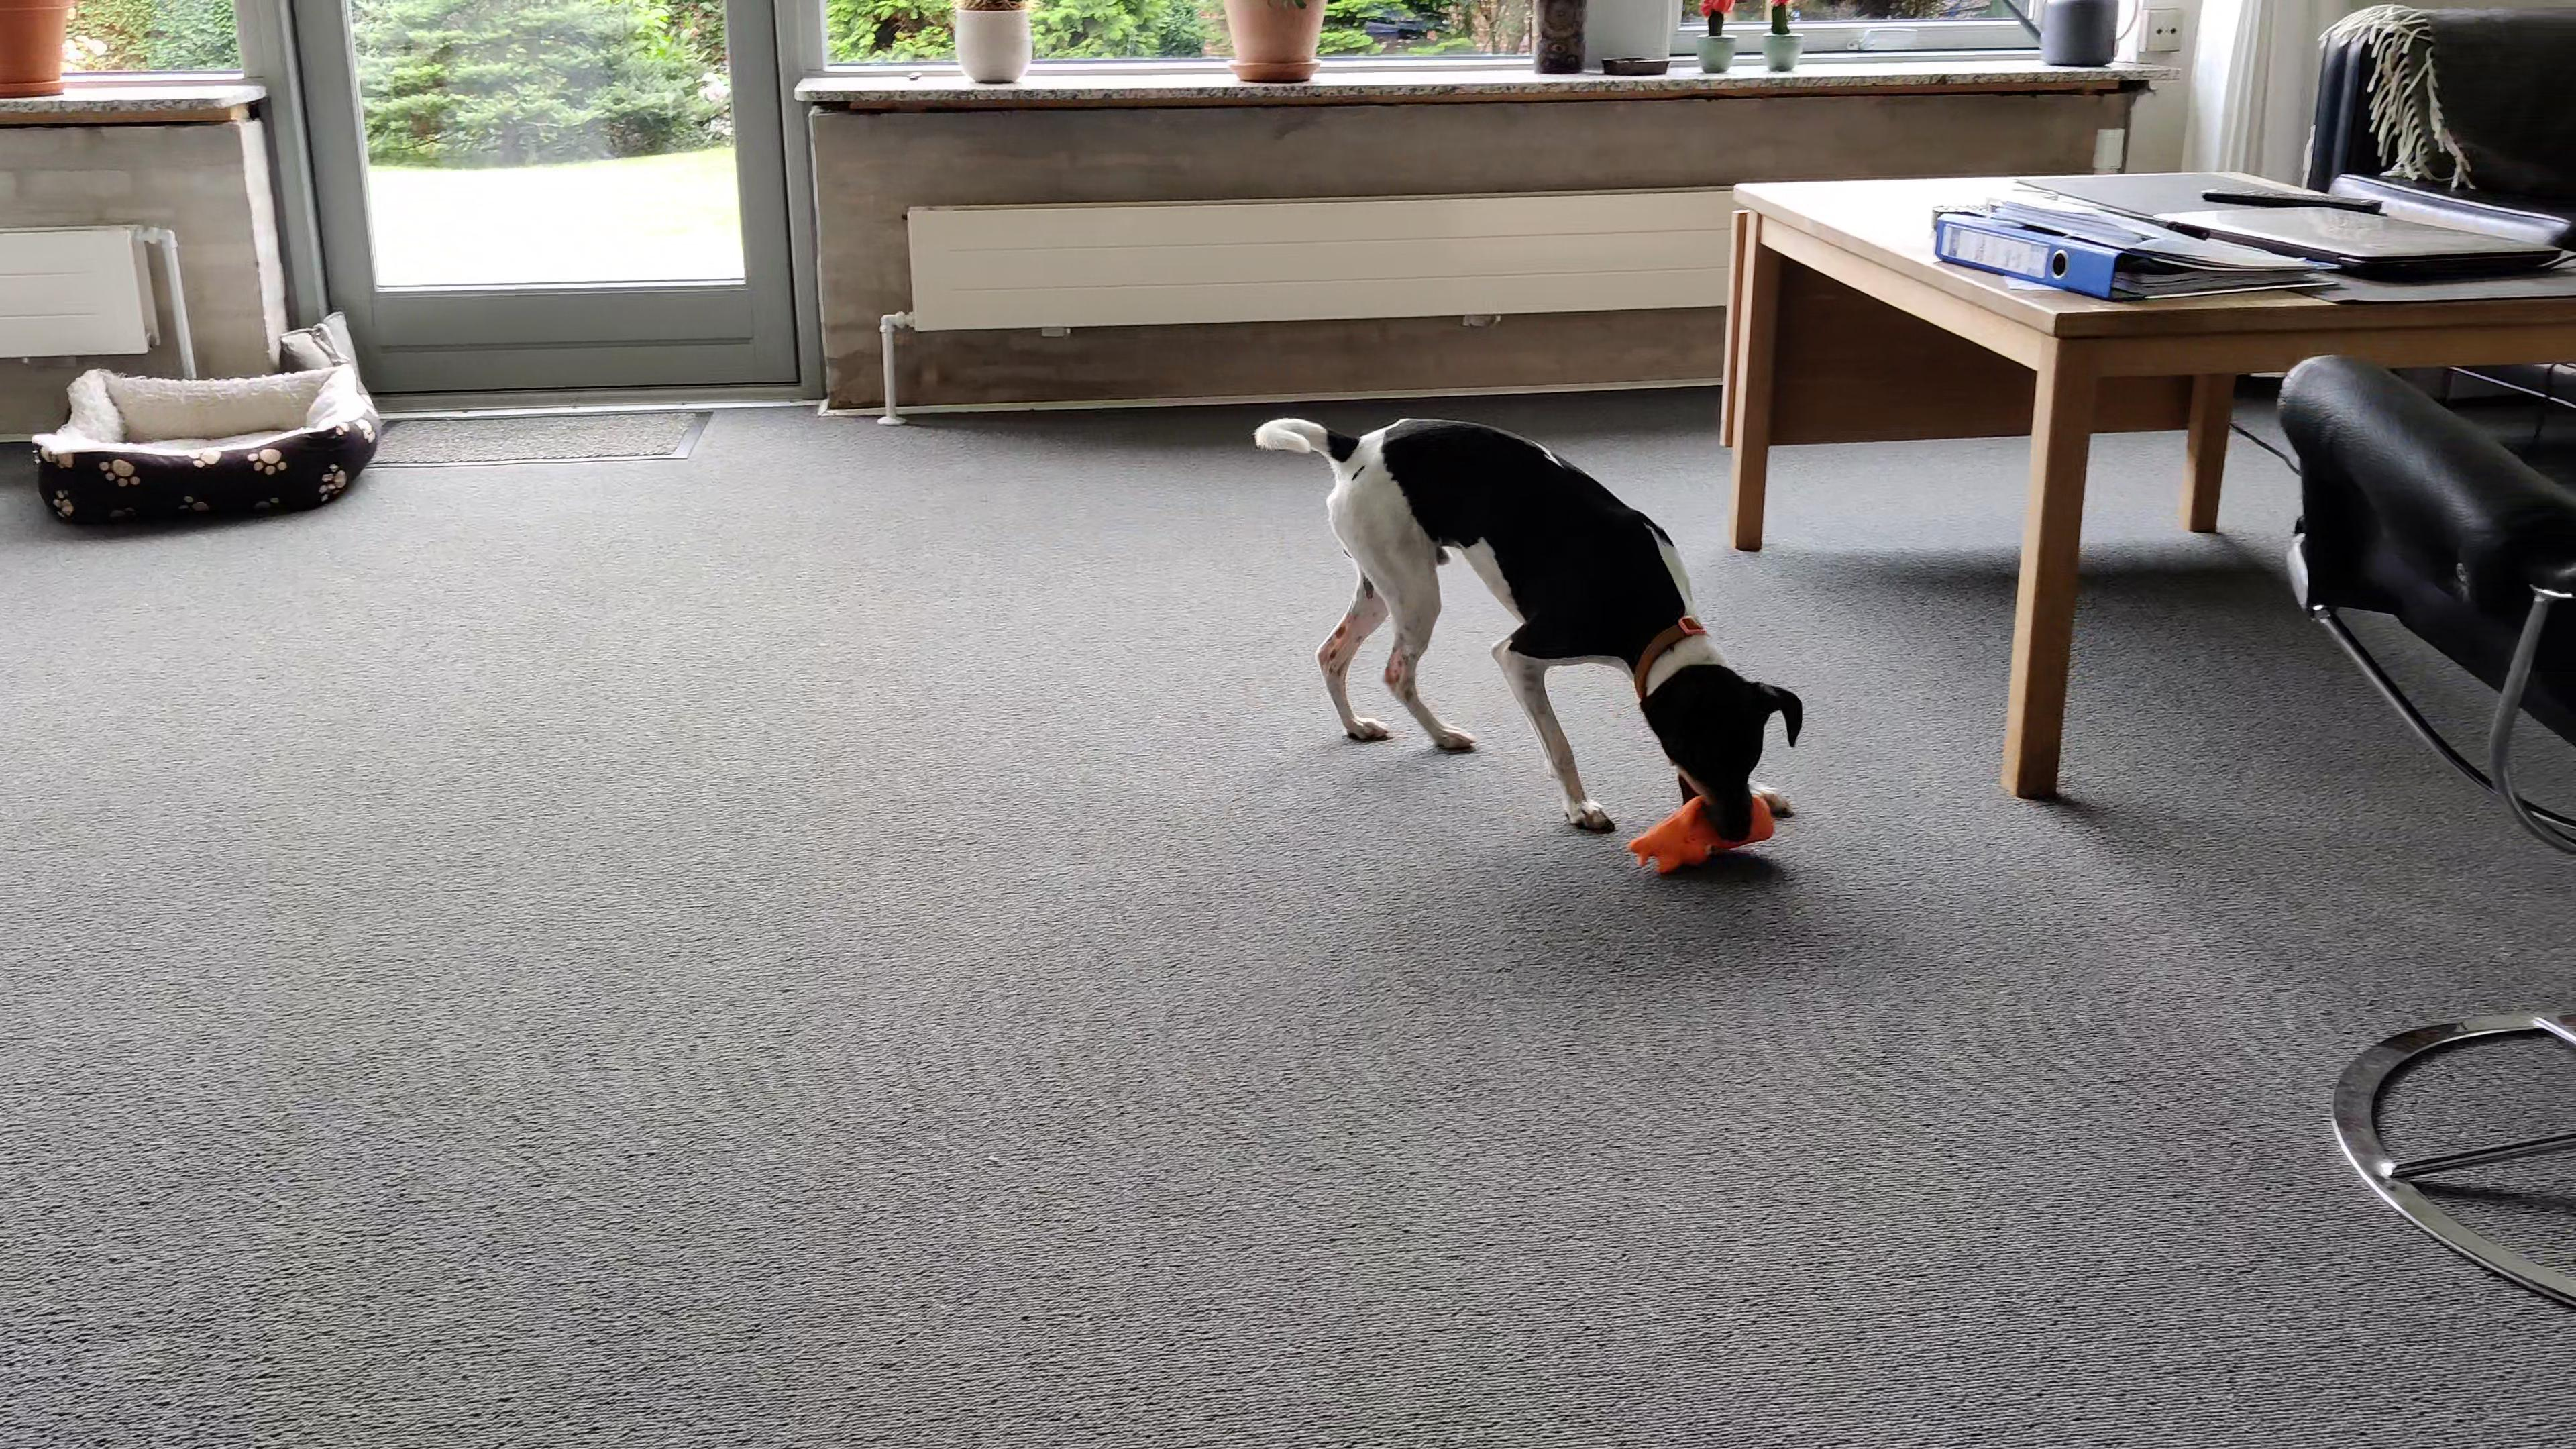Dog: (1240, 387, 1801, 846)
